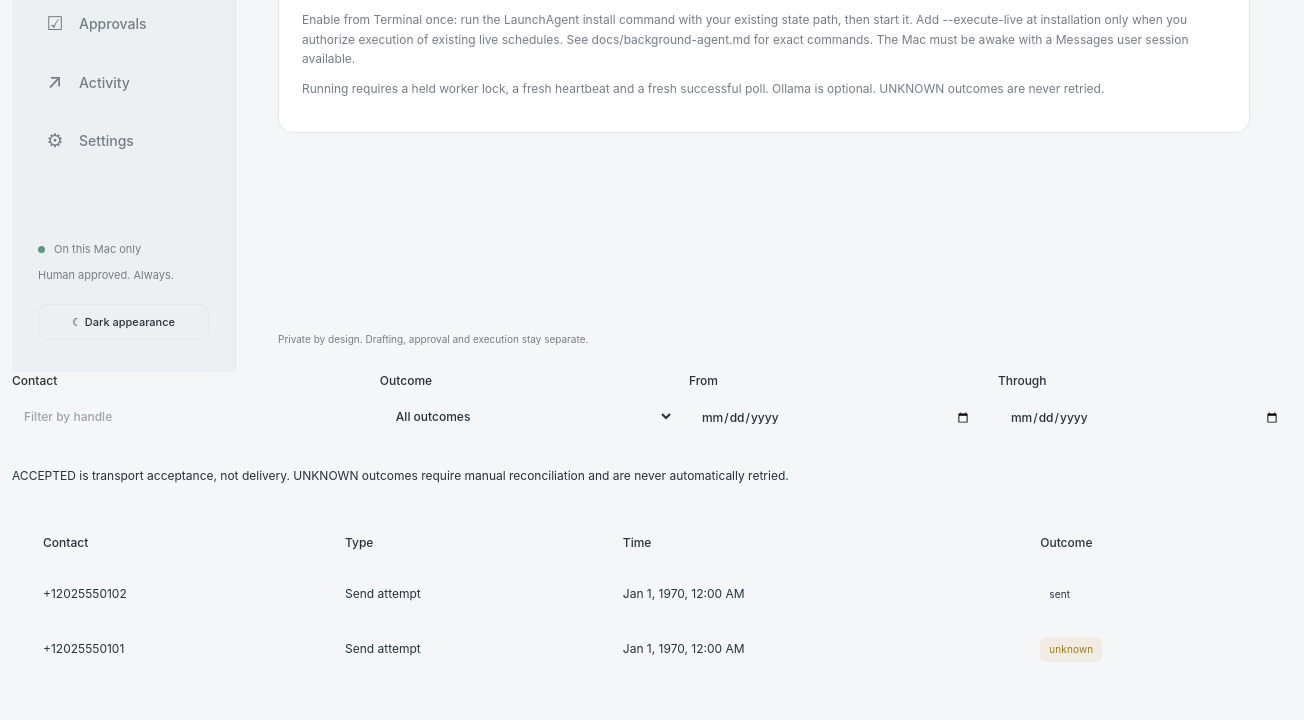
activity filters unknown outcomes and never offers retries
This screenshot has width=1304, height=720.
(page scrolled)
Expected: the text "+12025550102" is shown, [35, 567, 337, 622]
Select "unknown" in the dropdown labelled "Outcome" at (527, 416), box [380, 398, 674, 435]
(page scrolled)
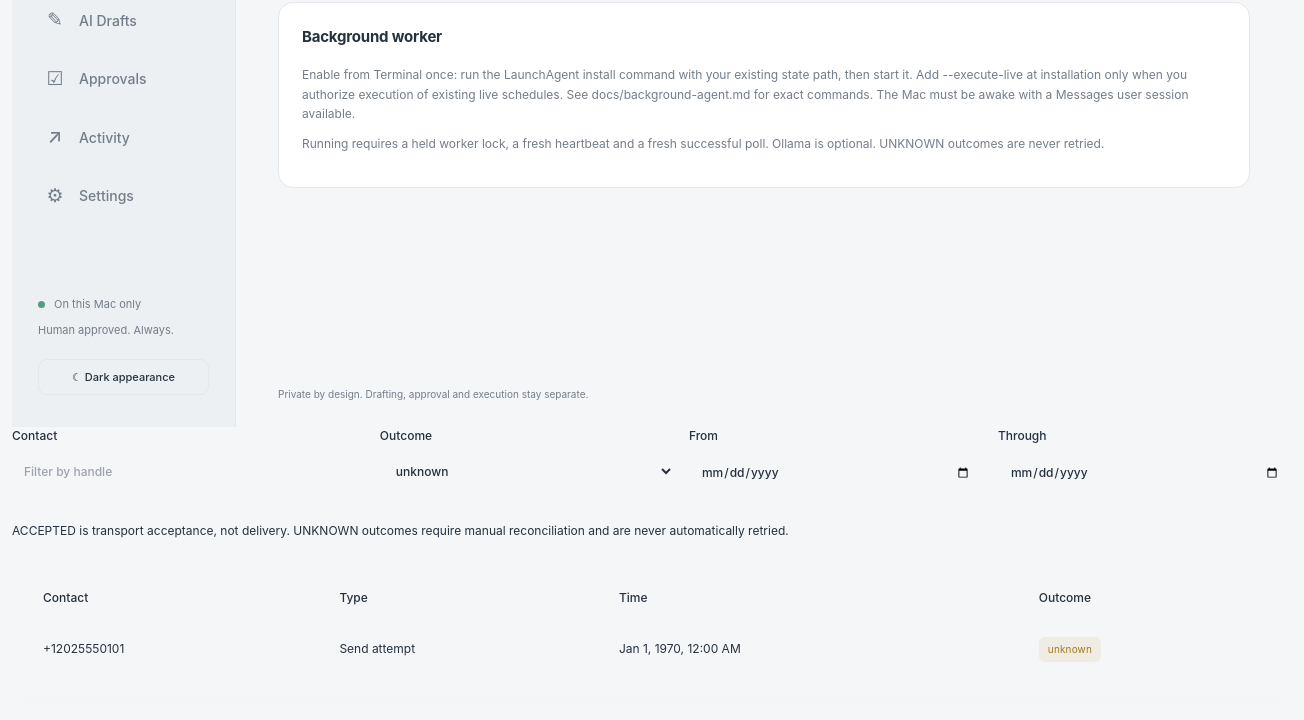
Expected: the text "+12025550101" is shown, [35, 622, 331, 677]
Result: the text "+12025550102" is gone
